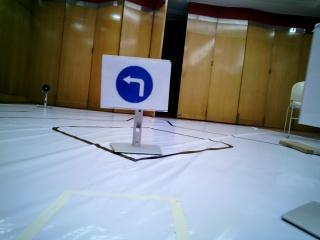left: (109, 59, 167, 112)
